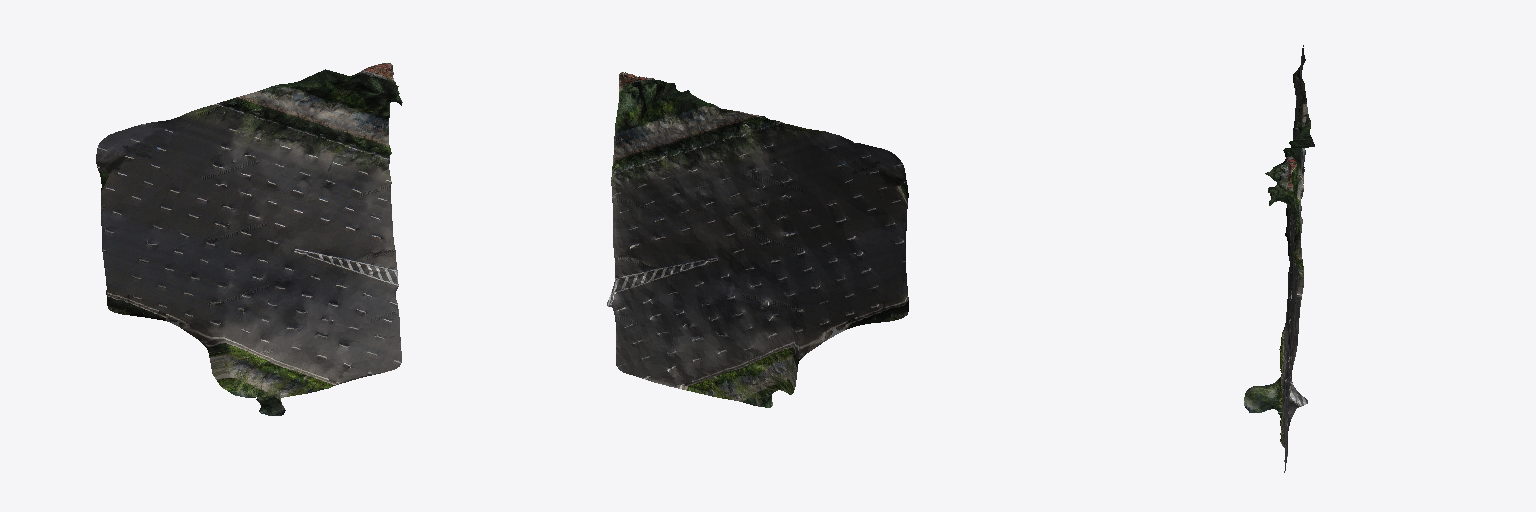
The picture shows the model from 3 angles: view 1: azimuth 30°, elevation 25°; view 2: azimuth 150°, elevation 25°; view 3: azimuth 270°, elevation 25°; orthographic projection.
Visible parts, largest first — view 1: Mesh; view 2: Mesh; view 3: Mesh.
Part boxes in pixels (left/top/right/bottom): Mesh: left=96, top=63, right=402, bottom=415; Mesh: left=607, top=72, right=908, bottom=407; Mesh: left=1244, top=45, right=1314, bottom=472.
Size of the model in its own units: 61.53 by 60.95 by 12.83.
Materials: 1 (1 with a texture image).